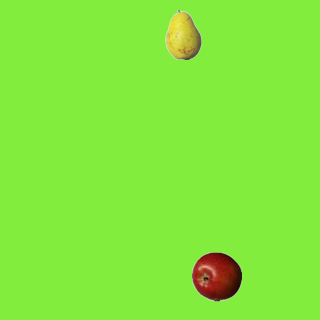Apple Braeburn: (191, 251, 241, 301)
Pear Monster: (158, 9, 208, 59)
